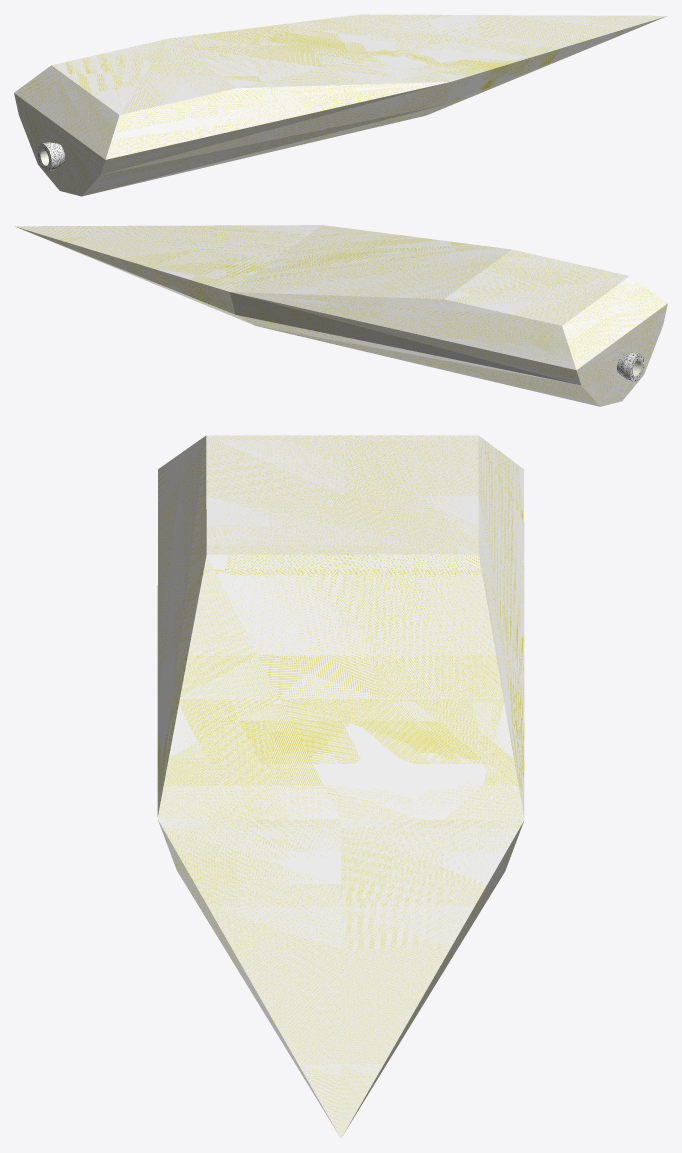
File: emily.dae
3 renders of one model, top to bottom at view 1: azimuth 30°, elevation 25°; view 2: azimuth 150°, elevation 25°; view 3: azimuth 270°, elevation 25°, orthographic. The views are drawn at different scales.
Visible parts, largest first — view 1: SketchUp (×2); view 2: SketchUp (×2); view 3: SketchUp.
Part boxes in pixels (box(x1,y1,x2,y2)): SketchUp (×2): box(14, 14, 666, 196); SketchUp (×2): box(15, 225, 667, 406); SketchUp: box(157, 435, 524, 1138).
Bounding box in the file's own units: 41.06 × 10.47 × 5.93.
